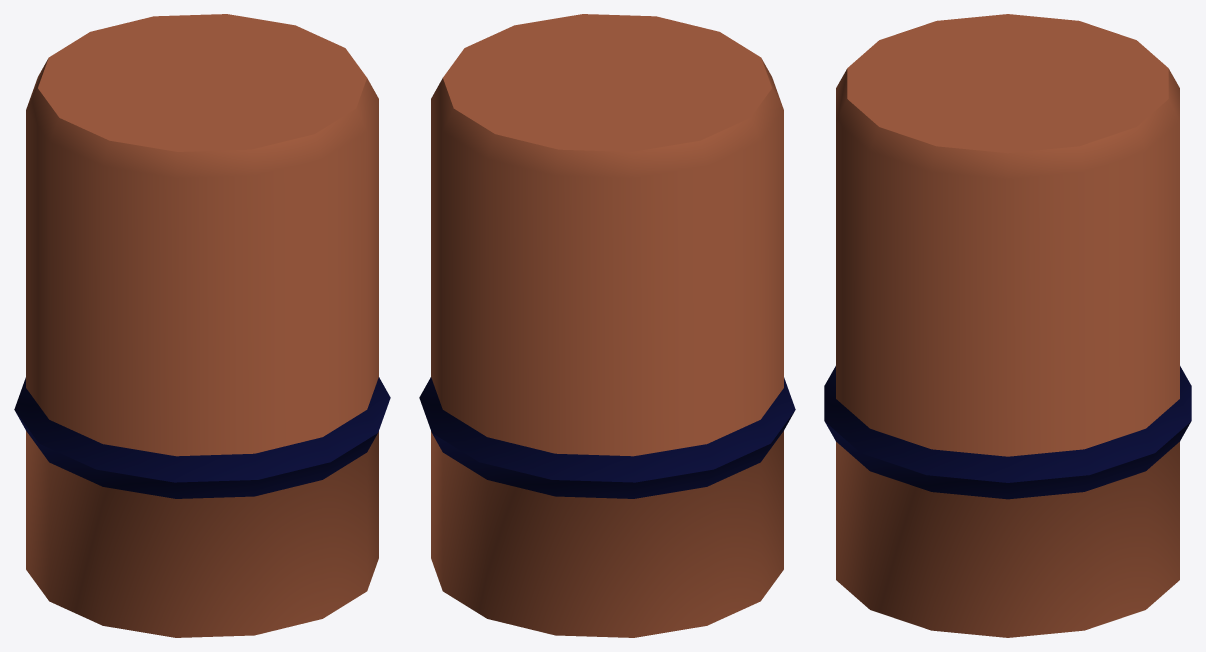
The model's file is env_oil_drum.obj.
3 views of the same model, side by side, from view 1: azimuth 30°, elevation 25°; view 2: azimuth 150°, elevation 25°; view 3: azimuth 270°, elevation 25° (orthographic).
Visible parts, largest first — view 1: OilDrum; view 2: OilDrum; view 3: OilDrum.
Boxes of the visible parts, x1,y1,x2,y2 form: OilDrum: (14,14,390,637); OilDrum: (419,14,795,637); OilDrum: (824,14,1191,637).
Size of the model in its own units: 0.64 by 0.9 by 0.624.
